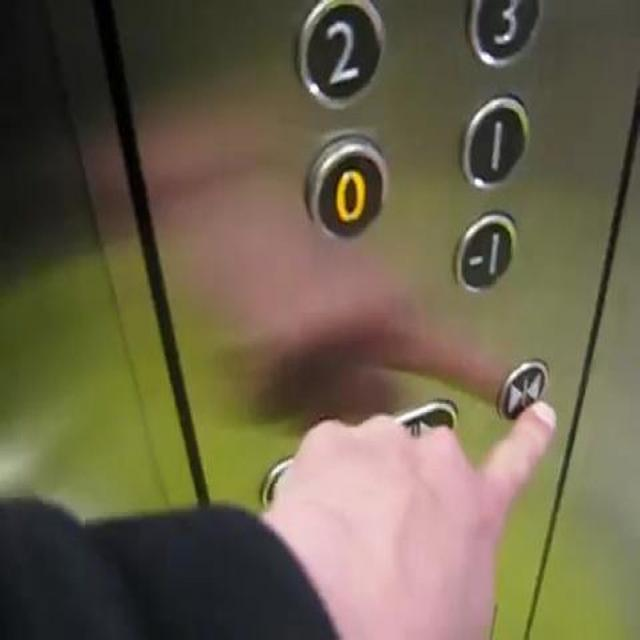-1: (448, 208, 519, 296)
0: (301, 130, 389, 242)
1: (459, 92, 532, 191)
2: (296, 0, 387, 109)
close: (493, 359, 552, 429)
